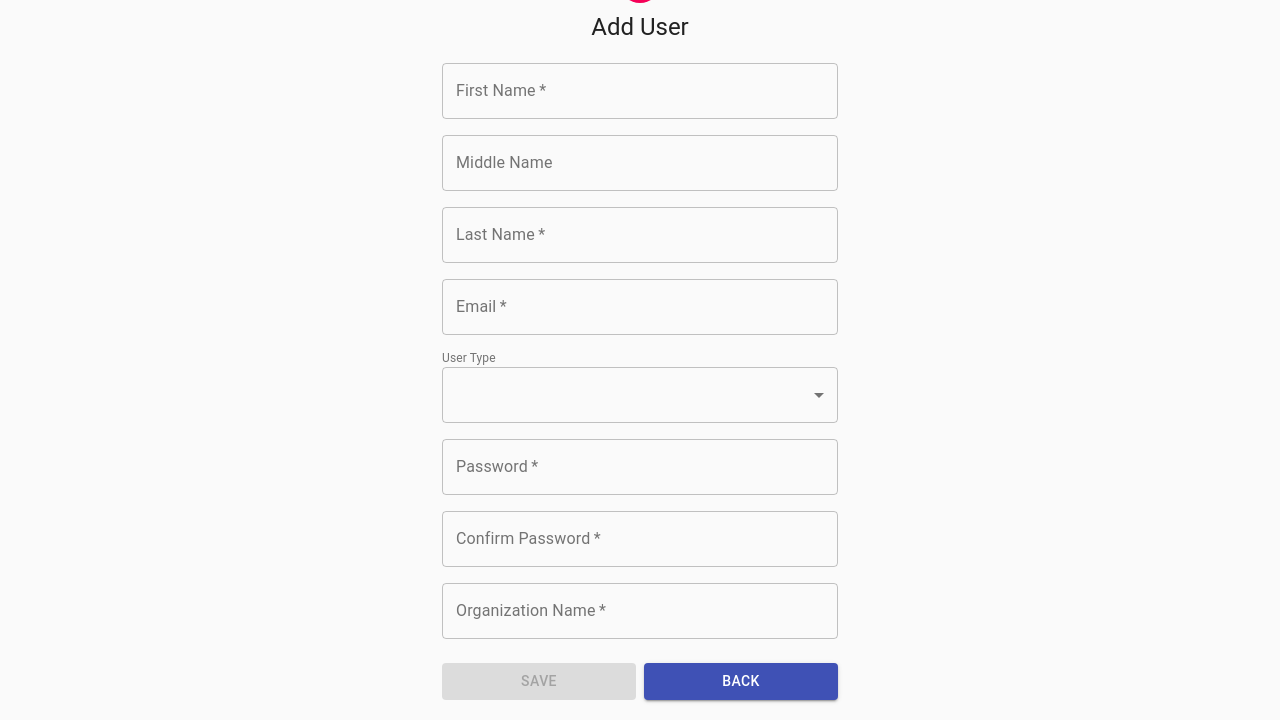
Scenario: <AddUserForm /> › On click of Back button takes to View Users form › Takes to view users screen form
(page scrolled)
Click the button with test id "addUser_backButton": (741, 681) x1=644 y1=663 x2=838 y2=700
(page scrolled)
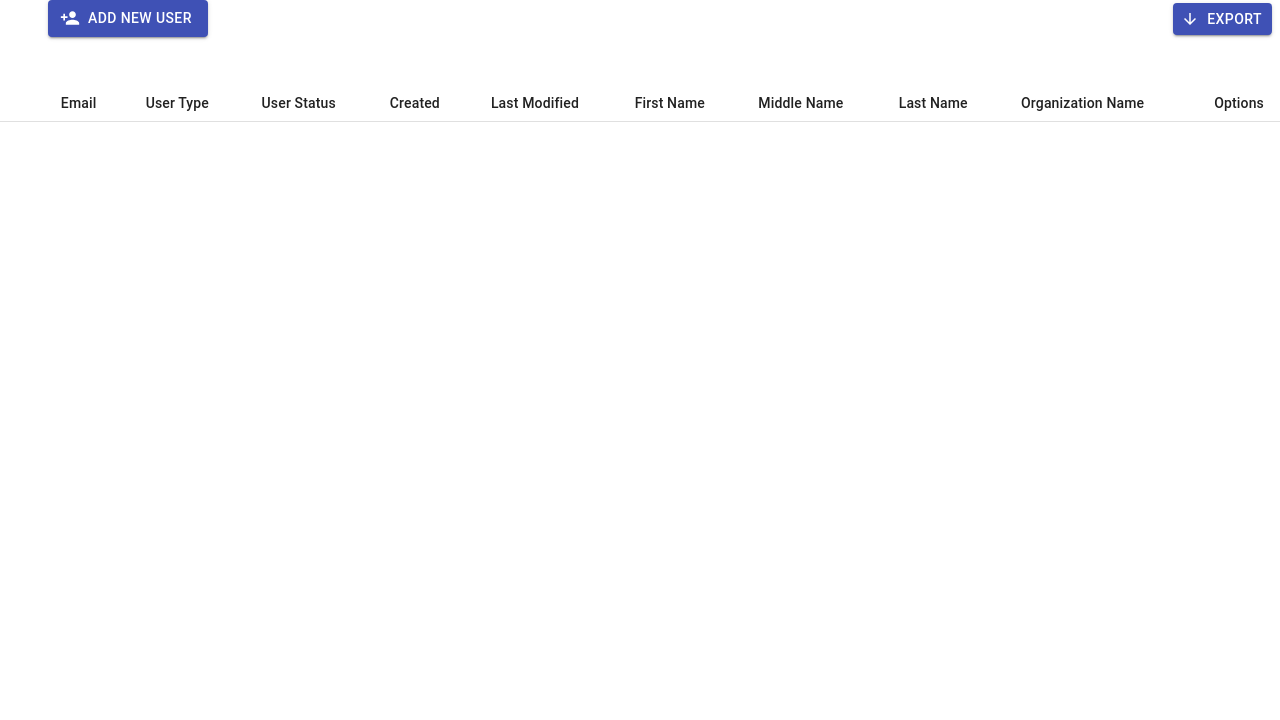
Expected: the element with test id "viewUsers_RowCount" is shown, x1=0 y1=0 x2=1279 y2=122
